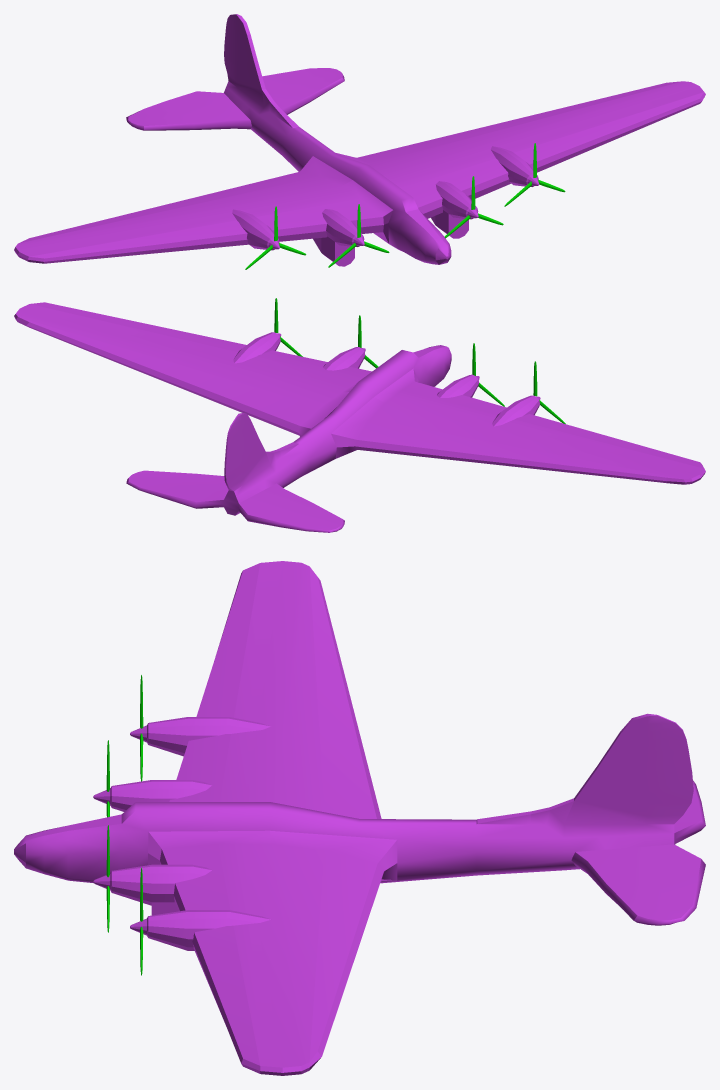
The model's file is SovietAirSupport.fbx.
3 views of the same model, one above another, from view 1: azimuth 30°, elevation 25°; view 2: azimuth 150°, elevation 25°; view 3: azimuth 270°, elevation 25° (orthographic). The views are drawn at different scales.
Visible parts, largest first — view 1: polySurface9; view 2: polySurface9; view 3: polySurface9.
Part boxes in pixels (x1,y1,x2,y2): polySurface9: (14,14,705,266); polySurface9: (14,302,705,532); polySurface9: (14,561,705,1075).
Size of the model in its own units: 12.84 by 2.11 by 7.38.
